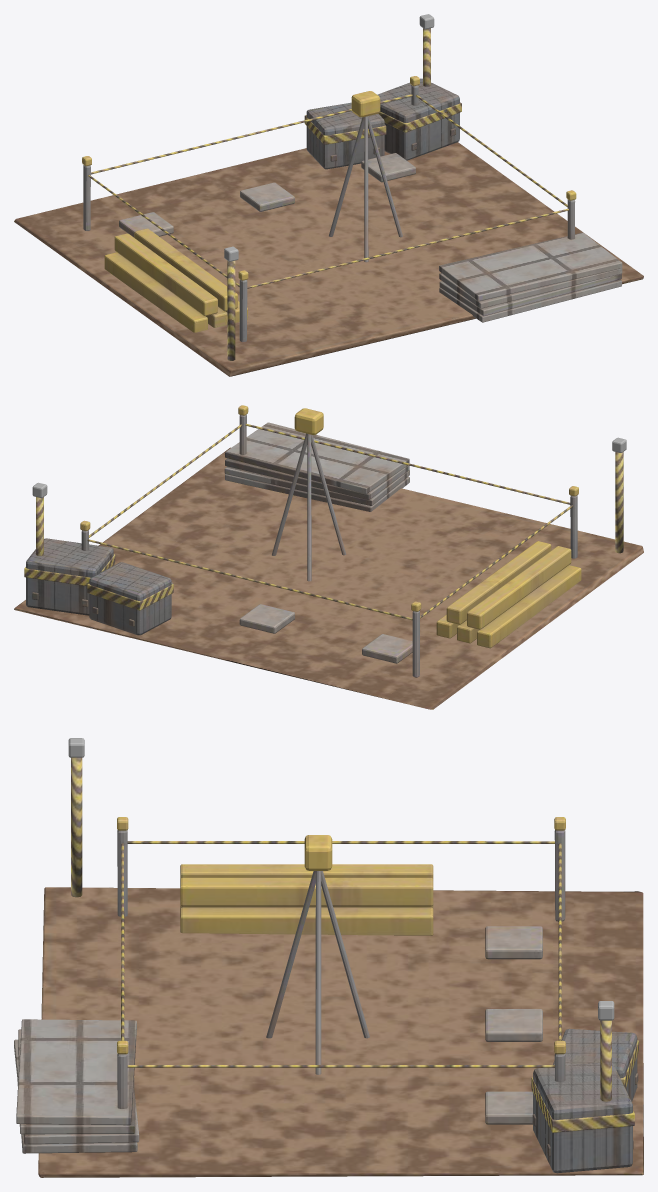
Rendered from site_0.glb.
The picture shows the model from 3 angles, top to bottom: view 1: azimuth 30°, elevation 25°; view 2: azimuth 150°, elevation 25°; view 3: azimuth 270°, elevation 25°; orthographic projection. The views are drawn at different scales.
Visible parts, largest first — view 1: site_0; view 2: site_0; view 3: site_0, Glow.
Part boxes in pixels (x1=…): site_0: x1=14, y1=28, x2=643, y2=376; site_0: x1=14, y1=405, x2=643, y2=709; site_0: x1=14, y1=757, x2=643, y2=1177; Glow: x1=68, y1=738, x2=614, y2=1020.
Size of the model in its own units: 2.93 by 1.04 by 2.74.
Materials: 2 (1 with a texture image).
